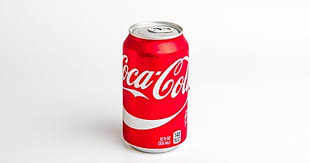can: (121, 19, 191, 155)
